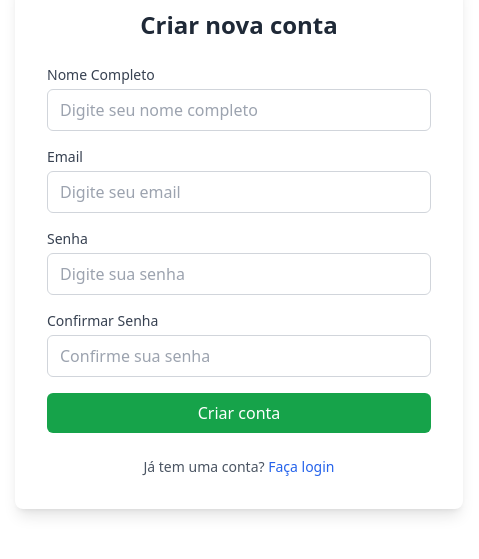
Test case: RegisterForm › should validate password length
The width and height of the screenshot is (479, 559).
Type "João Silva" into the field labelled "Nome Completo". click: (239, 110)
box: [47,89,431,131]
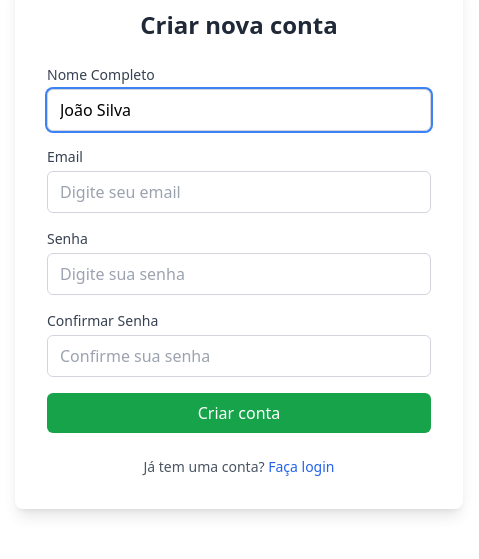
Type "joao@example.com" into the field labelled "Email". click: (239, 192)
box: [47,171,431,213]
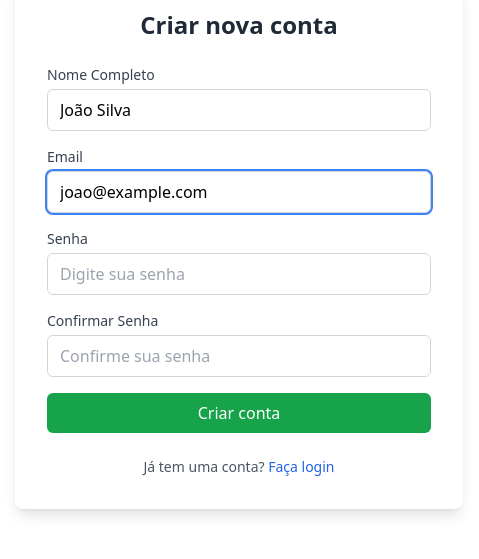
Type "123" into the password field labelled "Senha". click: (239, 274)
box: [47,253,431,295]
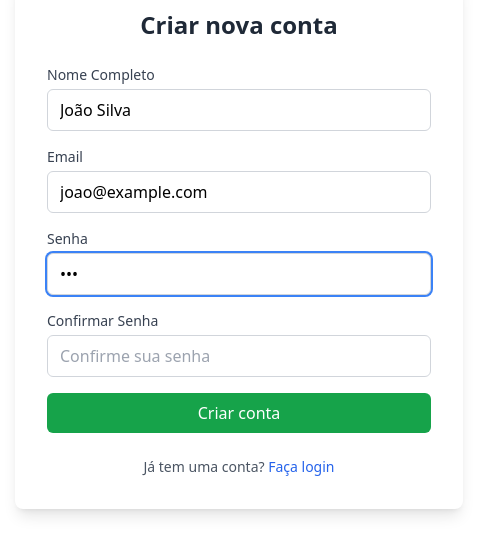
Type "123" into the password field labelled "Confirmar Senha". click: (239, 356)
box: [47,335,431,377]
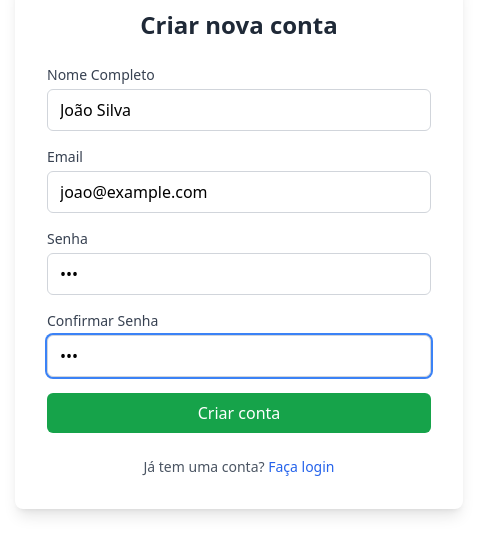
Click the button "Criar conta". click: click(239, 413)
box: [47,393,431,433]
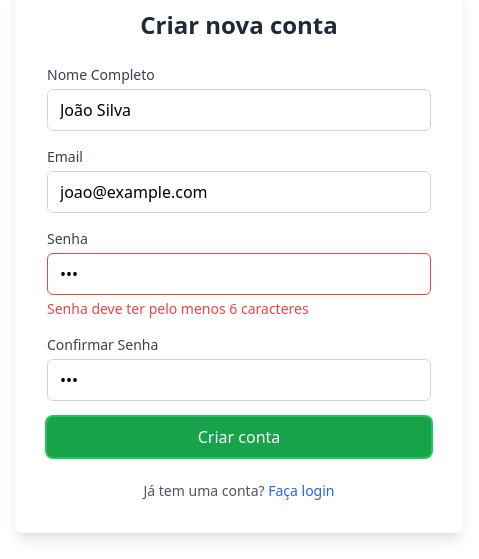
Expected: the text "Senha deve ter pelo menos 6 caracteres" is shown, [47,299,309,318]
